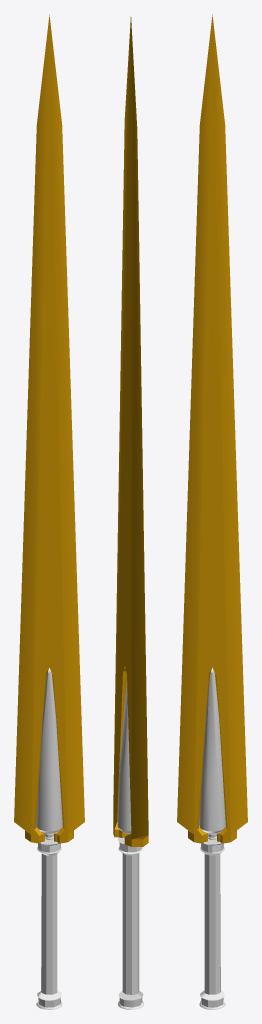
File: golden_sword.fbx
3 renders of one model, left to right at view 1: azimuth 90°, elevation 25°; view 2: azimuth 210°, elevation 25°; view 3: azimuth 270°, elevation 25°, orthographic.
Parts seen in each view (by area): view 1: Cylinder.001; view 2: Cylinder.001; view 3: Cylinder.001.
Boxes of the visible parts, x1,y1,x2,y2 form: Cylinder.001: (14, 14, 84, 1009); Cylinder.001: (113, 17, 148, 1009); Cylinder.001: (177, 14, 247, 1009).
Size of the model in its own units: 31.39 by 1294 by 84.
